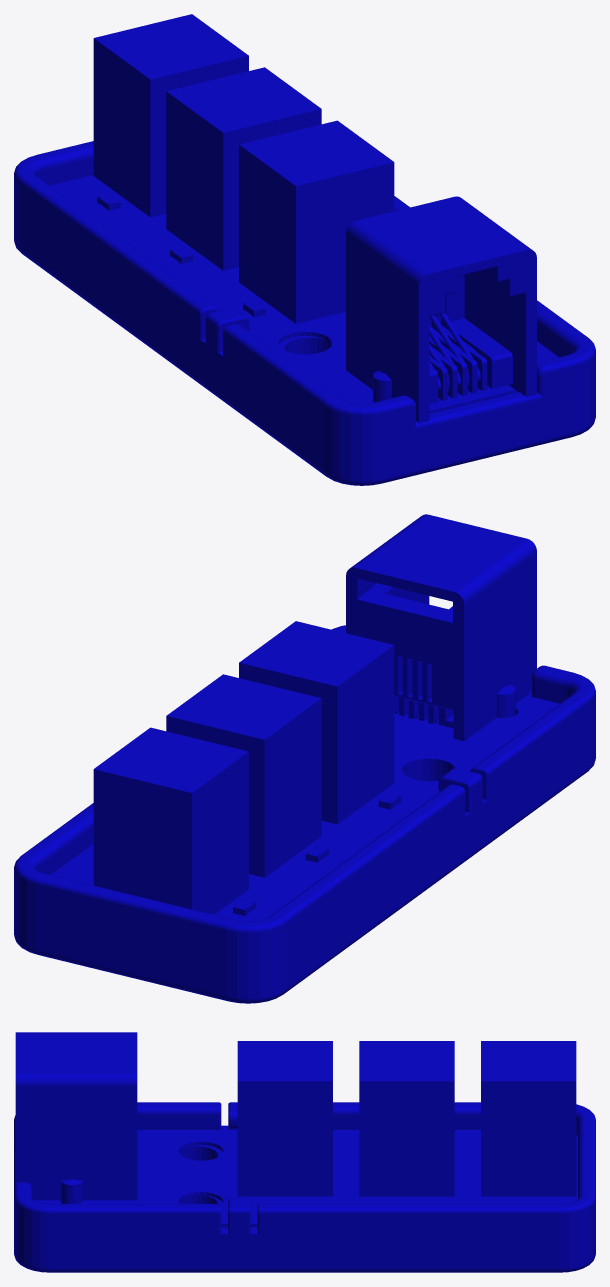
Rendered from TrafficLight.glb.
The picture shows the model from 3 angles, top to bottom: view 1: azimuth 30°, elevation 25°; view 2: azimuth 150°, elevation 25°; view 3: azimuth 270°, elevation 25°; orthographic projection. The views are drawn at different scales.
Parts seen in each view (by area): view 1: defaultobject; view 2: defaultobject; view 3: defaultobject.
Part boxes in pixels (<box>): defaultobject: <box>14,14,595,485</box>; defaultobject: <box>14,514,595,1003</box>; defaultobject: <box>14,1032,595,1272</box>.
Size of the model in its own units: 68.79 by 49.49 by 156.
